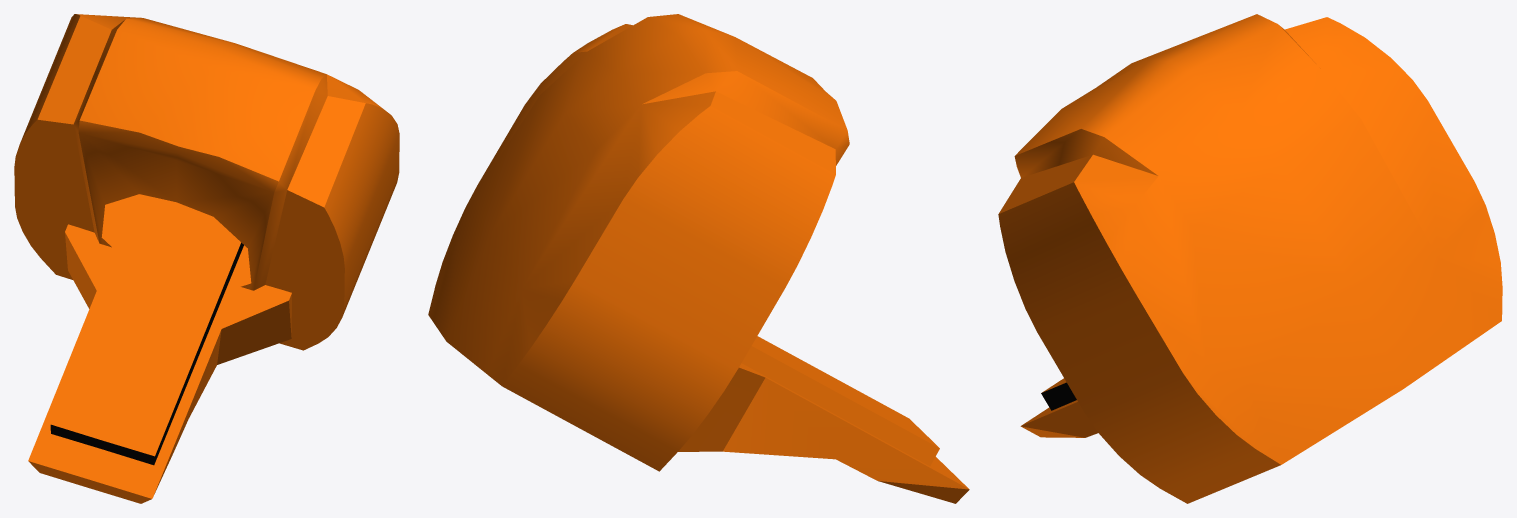
File: GammaKnife_I_01.fbx
The picture shows the model from 3 angles, left to right: view 1: azimuth 30°, elevation 25°; view 2: azimuth 150°, elevation 25°; view 3: azimuth 270°, elevation 25°; orthographic projection. The views are drawn at different scales.
Visible parts, largest first — view 1: GammaKnife_I_01; view 2: GammaKnife_I_01; view 3: GammaKnife_I_01.
Boxes of the visible parts, box(x1,y1,x2,y2) form: GammaKnife_I_01: box(14, 14, 399, 503); GammaKnife_I_01: box(428, 14, 969, 503); GammaKnife_I_01: box(998, 14, 1502, 503).
Bounding box in the file's own units: 120 × 112 × 111.
